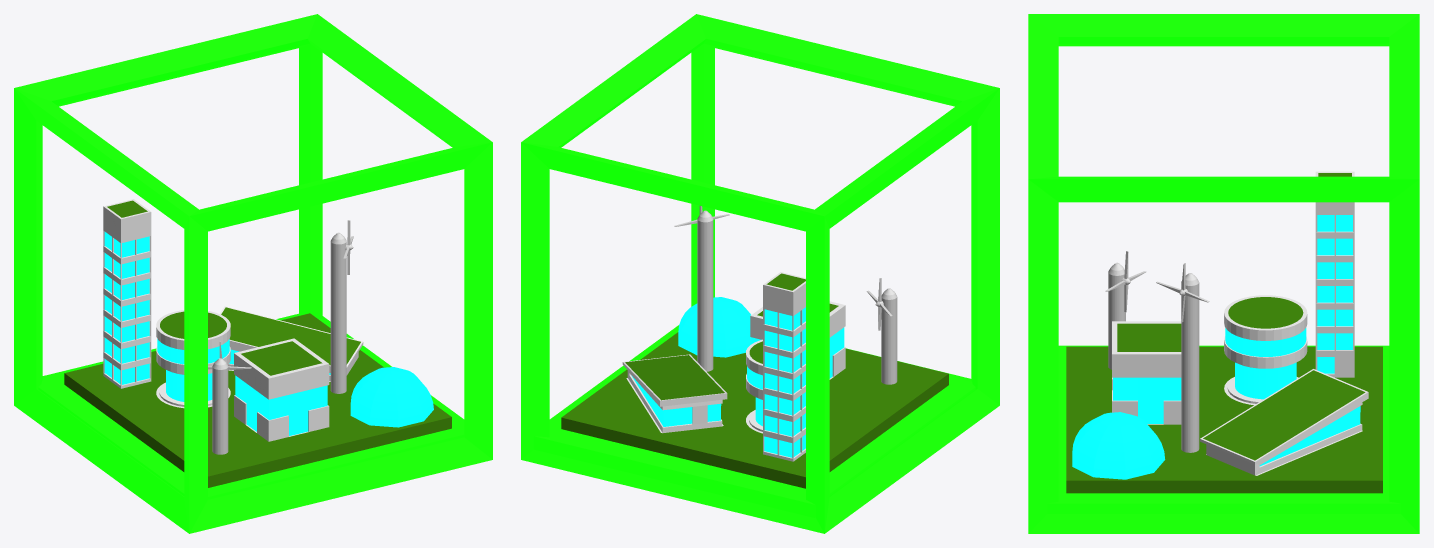
Rendered from Solarpunk Memory Cube.fbx.
3 views of the same model, side by side, from view 1: azimuth 30°, elevation 25°; view 2: azimuth 150°, elevation 25°; view 3: azimuth 270°, elevation 25° (orthographic). The views are drawn at different scales.
Parts seen in each view (by area): view 1: Cube.043, Cube.039, Cube.064, Cube.063, Cube.044, Sphere, Cylinder.002, Cube.062, Cylinder.004, Cylinder.003; view 2: Cube.043, Cube.039, Cube.044, Cube.064, Cube.062, Sphere, Cylinder.004, Cylinder.003, Cube.063, Cylinder.002; view 3: Cube.043, Cube.039, Cube.062, Cube.044, Cylinder.002, Cube.064, Cube.063, Sphere, Cylinder.004, Cylinder.003.
Part boxes in pixels (<box>): Cube.043: <box>14,14,492,533</box>; Cube.039: <box>64,313,451,487</box>; Cube.064: <box>103,199,151,388</box>; Cube.063: <box>234,338,329,441</box>; Cube.044: <box>38,313,464,499</box>; Sphere: <box>350,367,433,427</box>; Cylinder.002: <box>156,310,230,408</box>; Cube.062: <box>220,306,363,381</box>; Cylinder.004: <box>330,220,353,393</box>; Cylinder.003: <box>208,341,251,454</box>; Cube.043: <box>521,14,999,533</box>; Cube.039: <box>561,332,948,488</box>; Cube.044: <box>533,325,975,517</box>; Cube.064: <box>763,272,805,461</box>; Cube.062: <box>622,354,727,433</box>; Sphere: <box>678,297,751,357</box>; Cylinder.004: <box>674,206,729,371</box>; Cylinder.003: <box>866,278,897,384</box>; Cube.063: <box>750,301,845,379</box>; Cylinder.002: <box>746,339,762,433</box>; Cube.043: <box>1028,14,1419,533</box>; Cube.039: <box>1066,346,1382,493</box>; Cube.062: <box>1200,369,1368,475</box>; Cube.044: <box>1047,347,1400,513</box>; Cylinder.002: <box>1224,295,1307,404</box>; Cube.064: <box>1315,171,1354,377</box>; Cube.063: <box>1112,321,1181,424</box>; Sphere: <box>1072,412,1165,479</box>; Cylinder.004: <box>1156,263,1209,452</box>; Cylinder.003: <box>1105,251,1146,369</box>.
Bounding box in the file's own units: 61.71 × 61.71 × 61.71.
